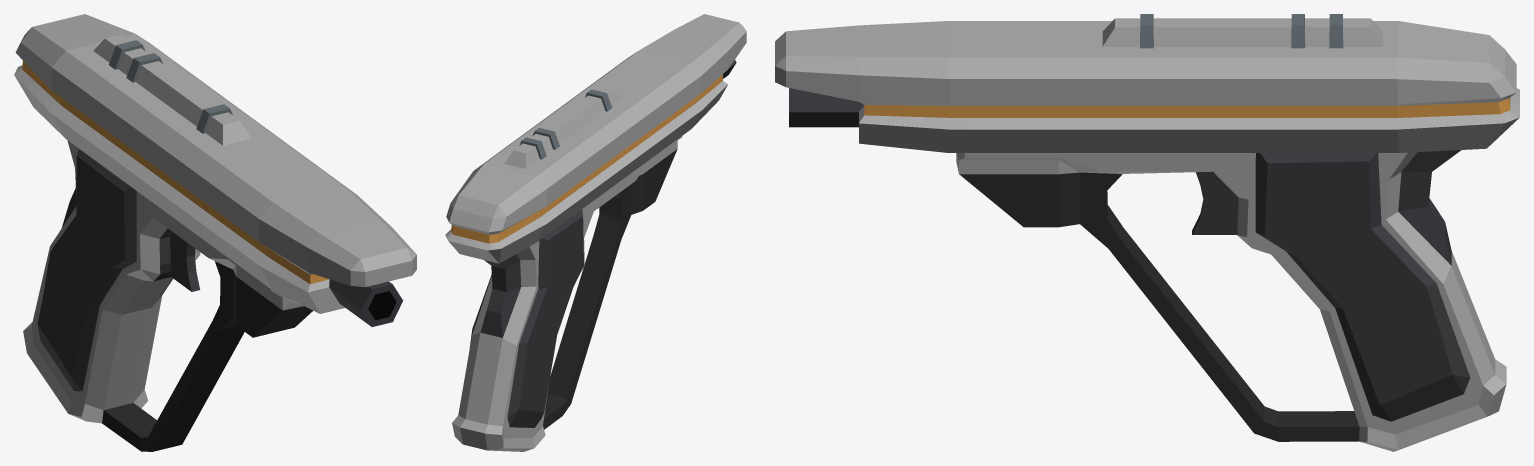
Rendered from SM_Wep_Pistol_01.glb.
The picture shows the model from 3 angles, left to right: view 1: azimuth 30°, elevation 25°; view 2: azimuth 150°, elevation 25°; view 3: azimuth 270°, elevation 25°; orthographic projection. The views are drawn at different scales.
Visible parts, largest first — view 1: SM_Wep_Pistol_01, SM_Wep_Pistol_Trigger_01; view 2: SM_Wep_Pistol_01; view 3: SM_Wep_Pistol_01, SM_Wep_Pistol_Trigger_01.
Boxes of the visible parts, x1,y1,x2,y2 form: SM_Wep_Pistol_01: [14, 14, 416, 451]; SM_Wep_Pistol_Trigger_01: [168, 232, 200, 291]; SM_Wep_Pistol_01: [445, 14, 746, 451]; SM_Wep_Pistol_01: [775, 14, 1519, 451]; SM_Wep_Pistol_Trigger_01: [1192, 171, 1238, 234].
Size of the model in its own units: 0.0683 by 0.2604 by 0.4146.
Materials: 1 (1 with a texture image).
